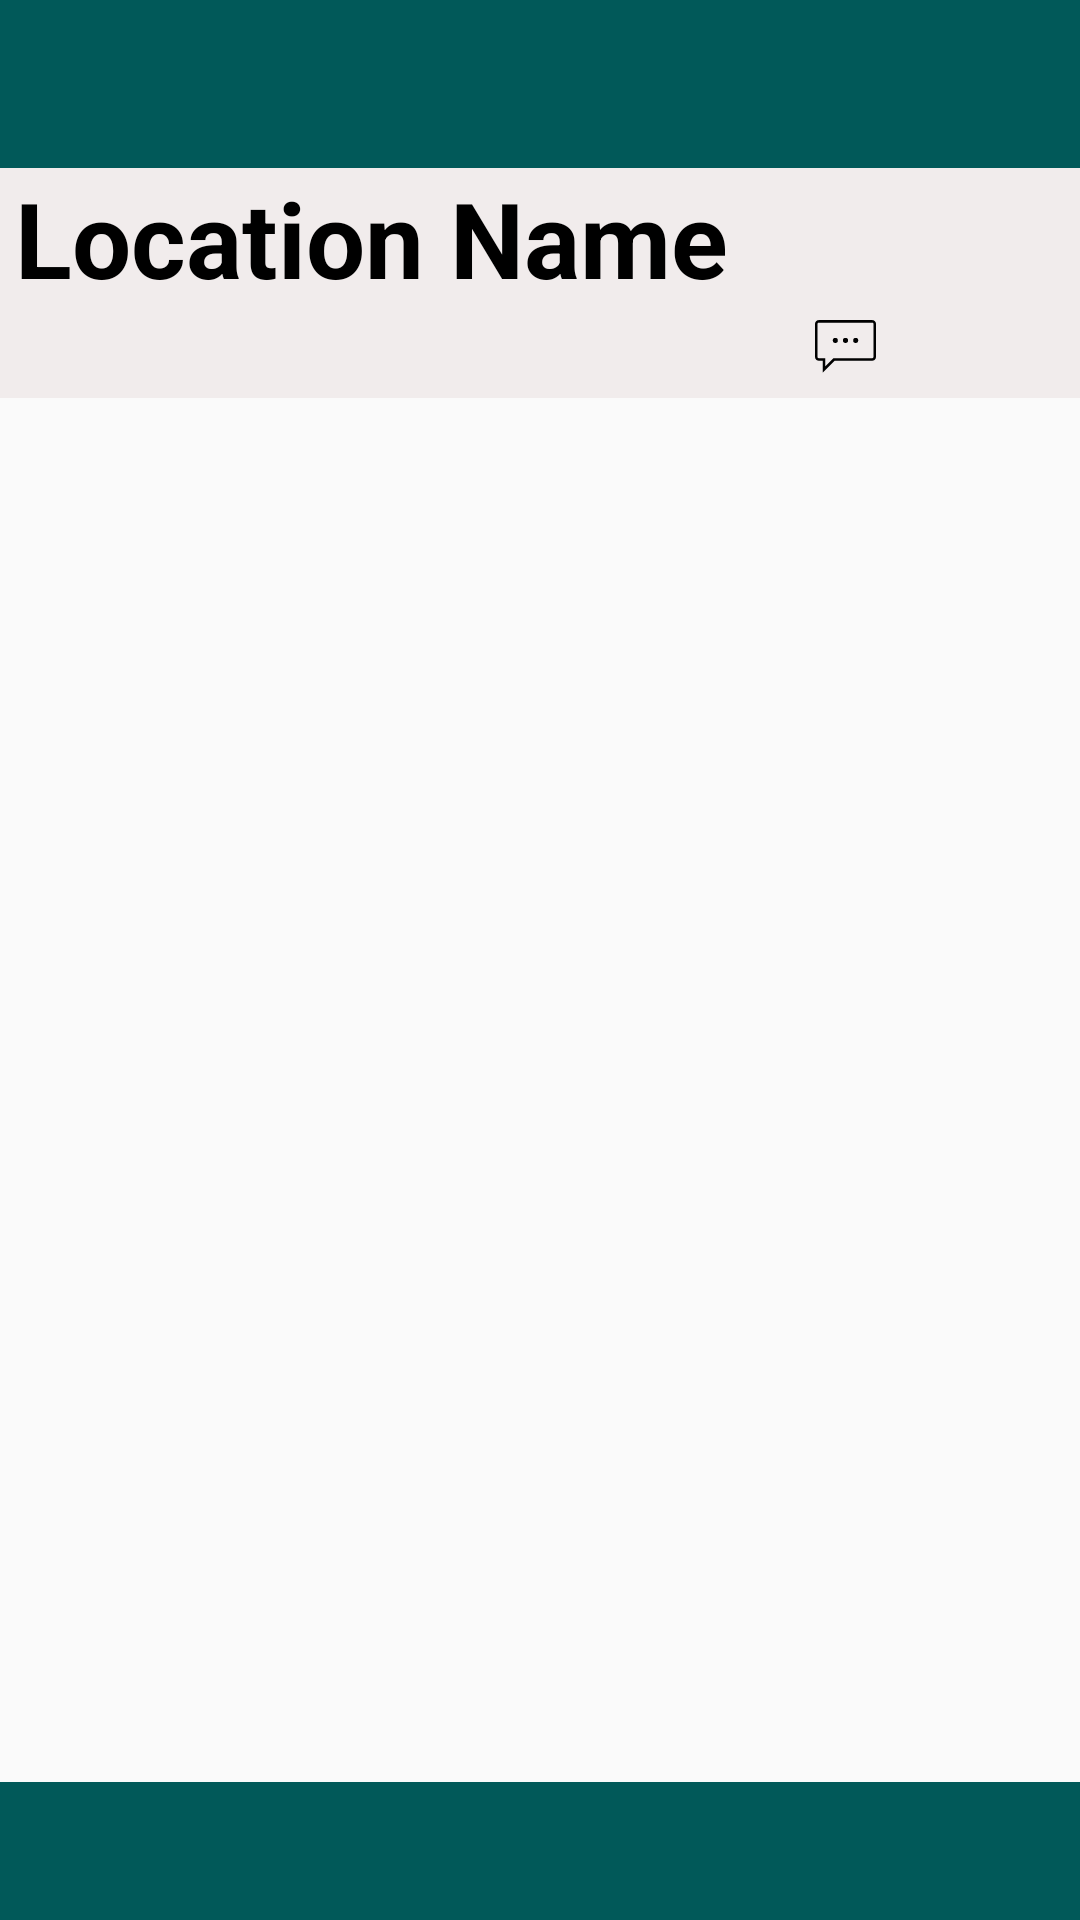

Where to tap for icons on this 1080w x 1920h app screen, as (x,y):
comment: (845,346)
